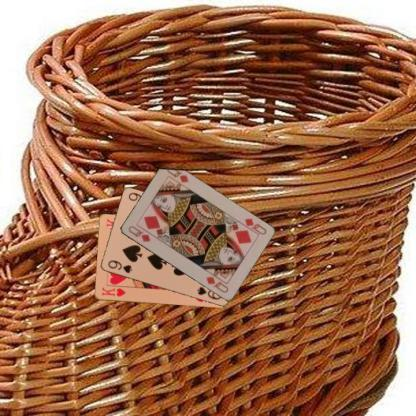9s: (105, 258, 133, 274)
Kh: (99, 285, 126, 298)
Qd: (238, 215, 268, 237), (126, 223, 152, 244)
